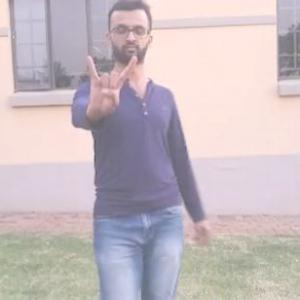takeoff-hand: (81, 44, 137, 120)
